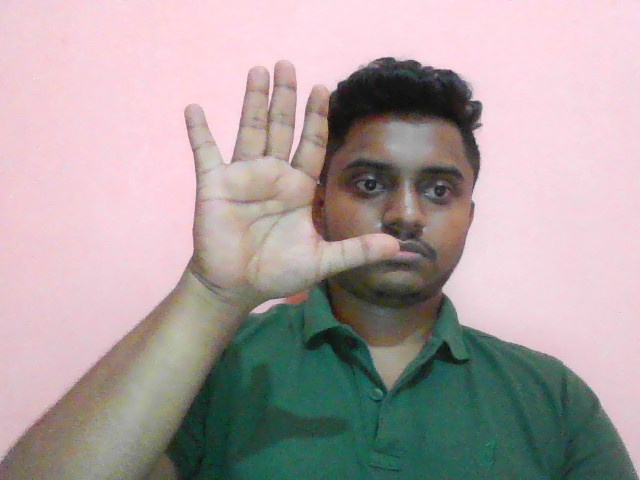Hello: (181, 57, 401, 311)
